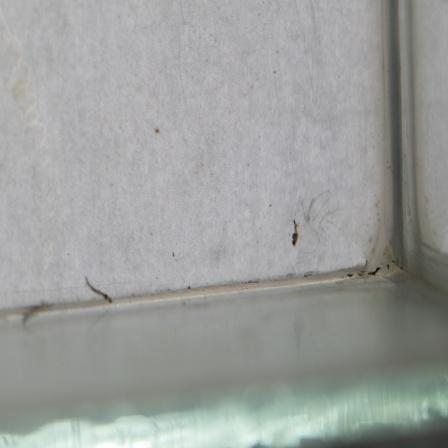Jentik-Nyamuk: (80, 276, 117, 306)
